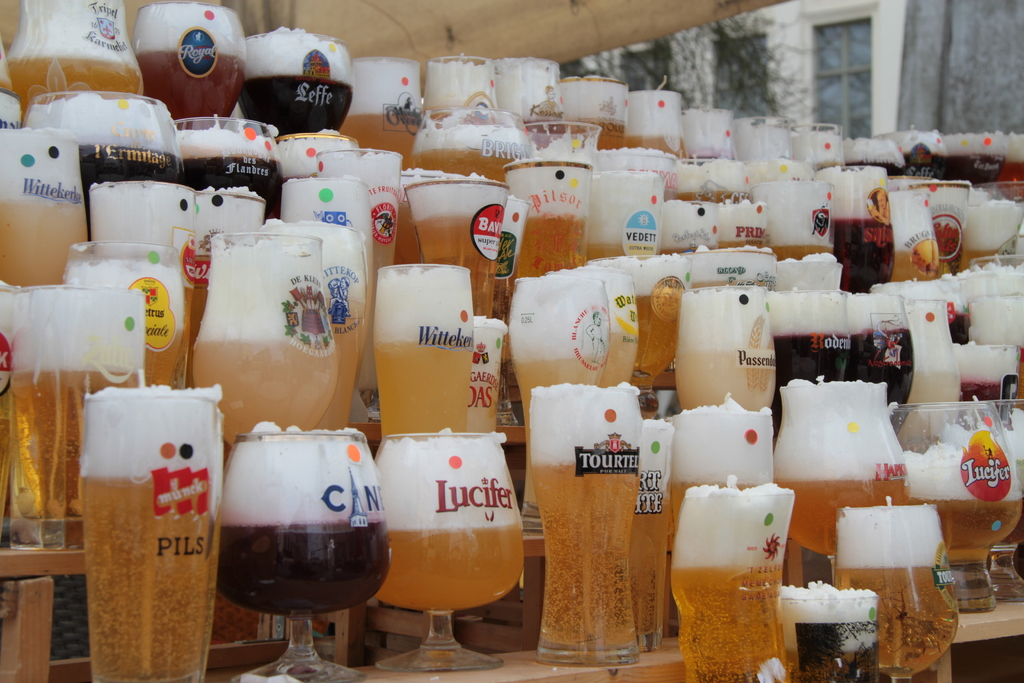Beer: (0, 1, 1023, 681)
